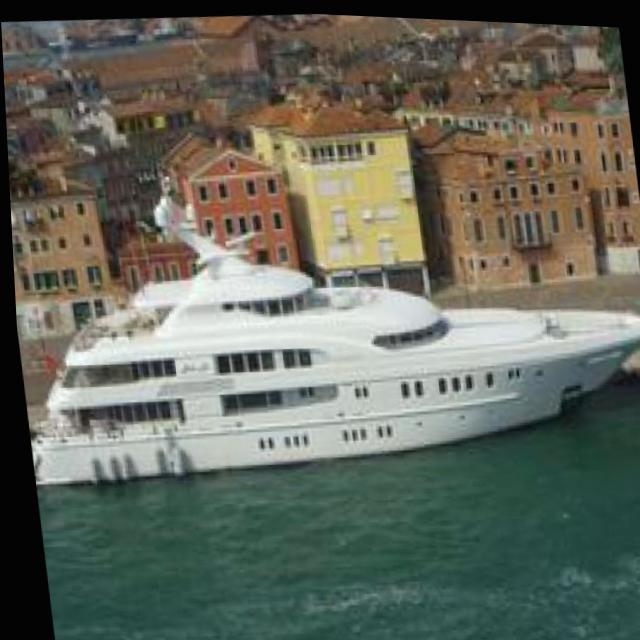ship2: (24, 191, 640, 483)
